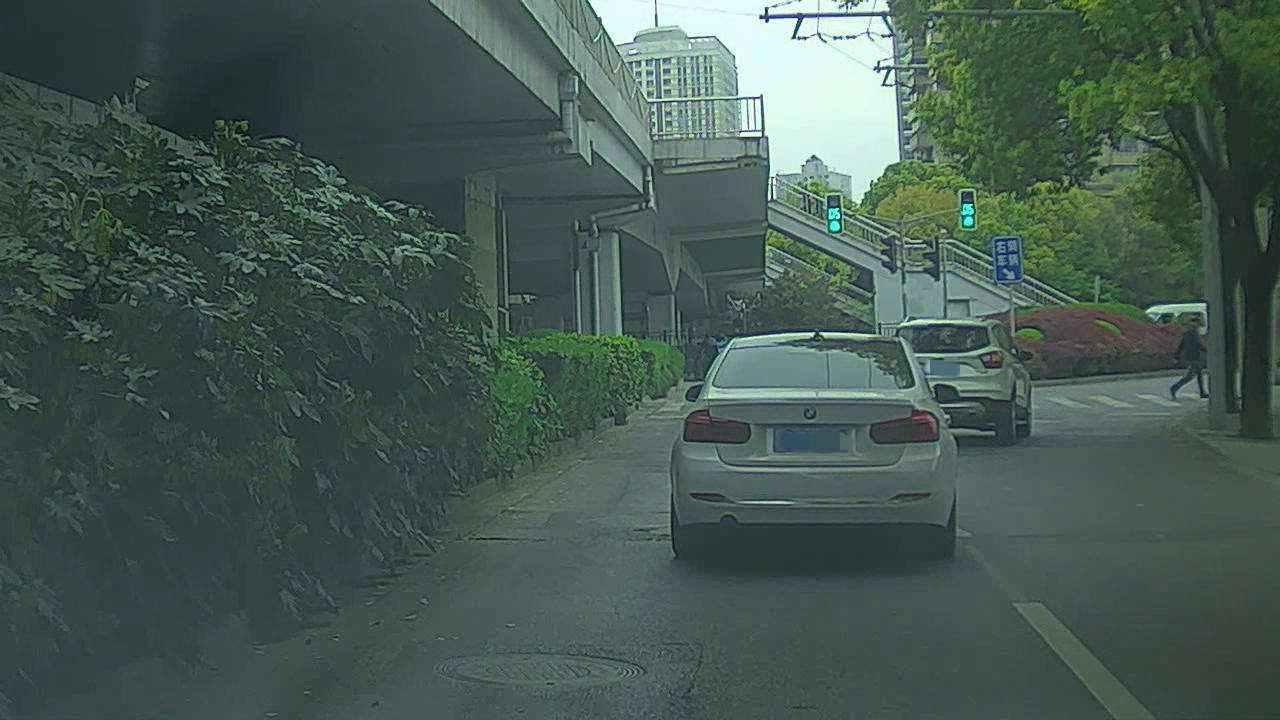traffic_light: (826, 195, 845, 235), (959, 190, 977, 229)
